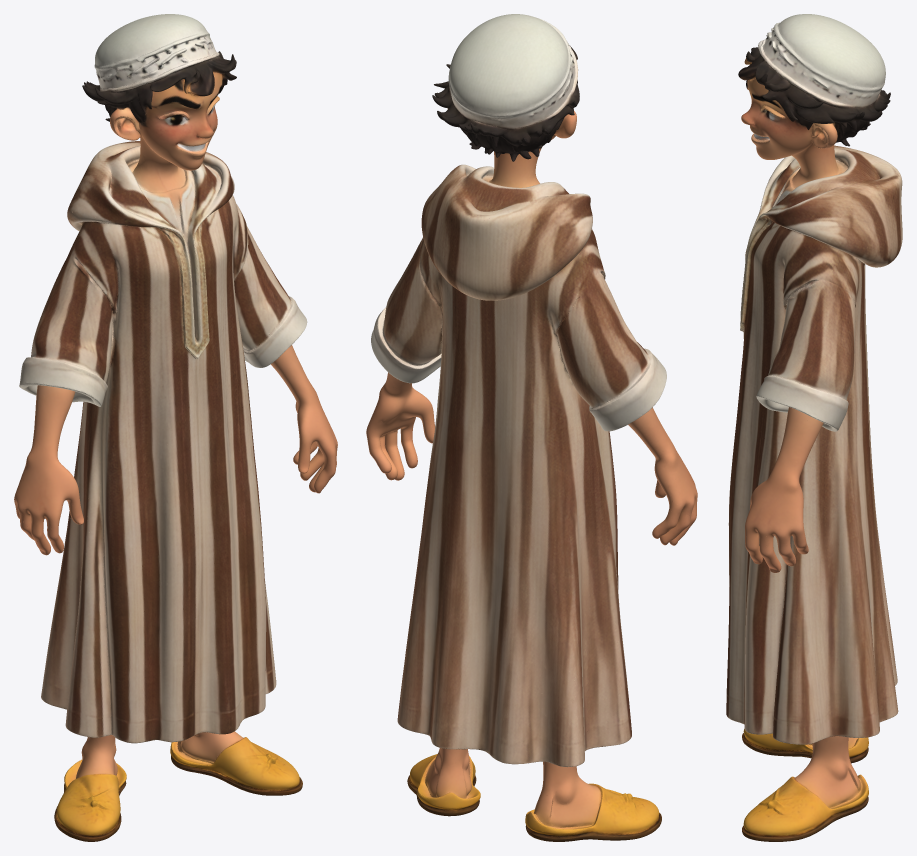
File: teen_trompette__base_basic_pbr.glb
3 renders of one model, left to right at view 1: azimuth 30°, elevation 25°; view 2: azimuth 150°, elevation 25°; view 3: azimuth 270°, elevation 25°, orthographic. The views are drawn at different scales.
Parts seen in each view (by area): view 1: model; view 2: model; view 3: model.
Part boxes in pixels (x1,y1,x2,y2): model: (14, 14, 337, 841); model: (366, 14, 697, 841); model: (726, 14, 902, 841).
Size of the model in its own units: 0.8052 by 1.9 by 0.3956.
Materials: 1 (1 with a texture image).
